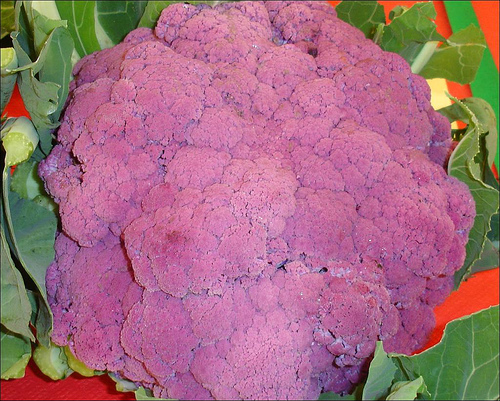cauliflower: (38, 0, 475, 399)
